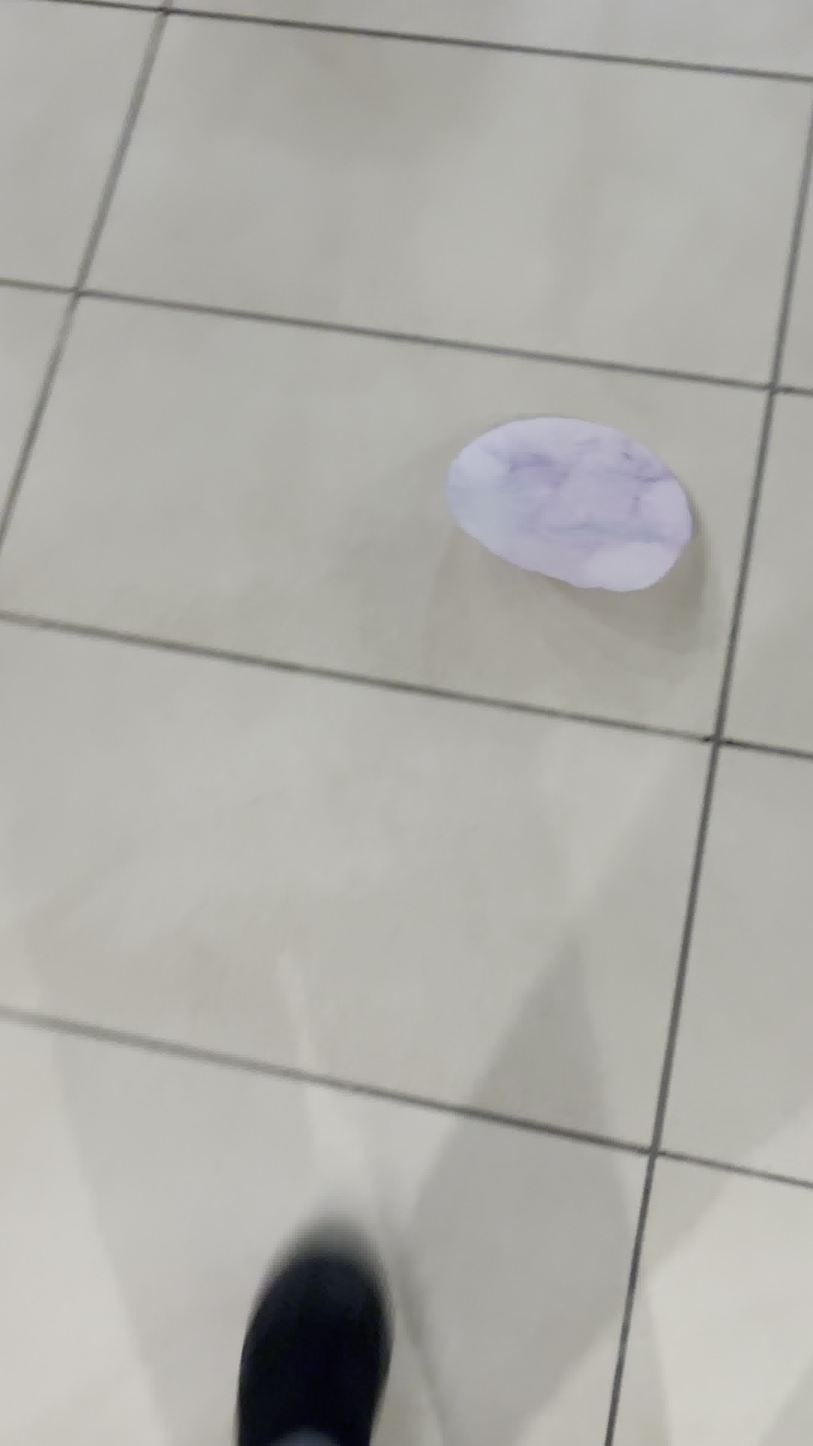Target: (424, 416, 701, 584)
